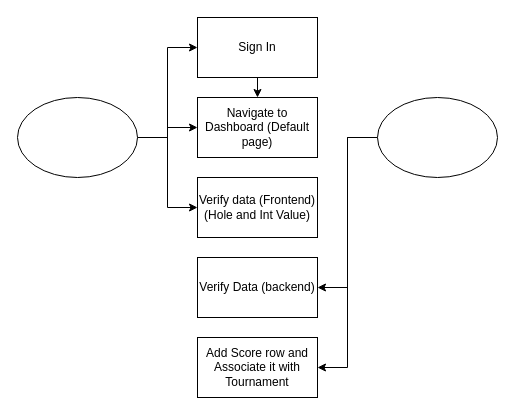
Some shapes in this 515 by 415 pixel diagram are drawn without their labels. The shapes that lost their labels are listed below. From the top down, each one's box as (x1, y1, x2, y2) in pixels, then its label:
(16, 96, 138, 178): User
(376, 96, 498, 178): Backend
